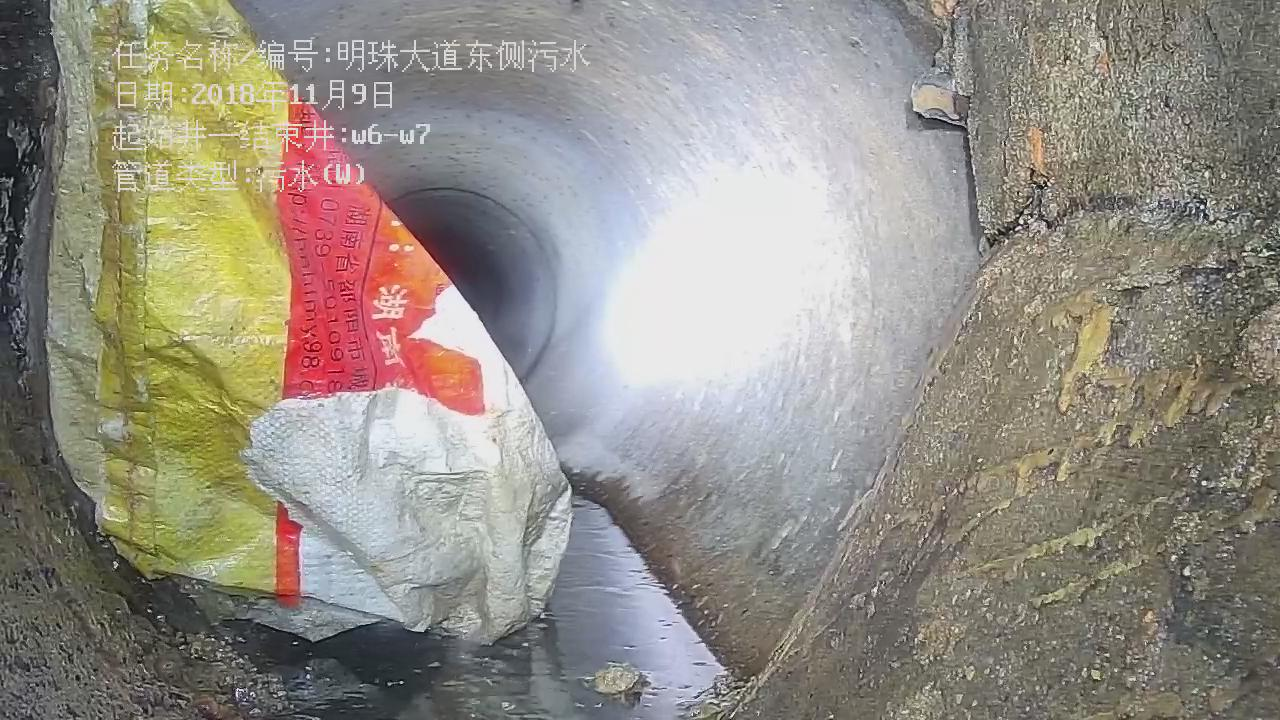ZAW: (44, 0, 570, 642)
